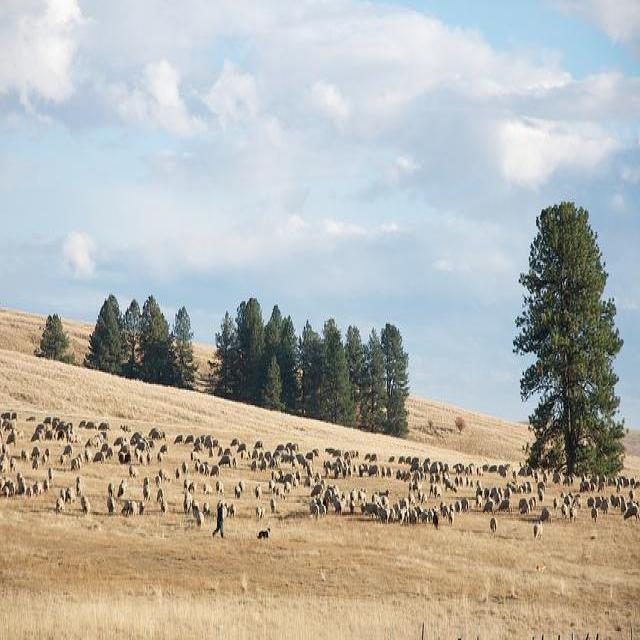Sheep: (0, 408, 639, 535)
